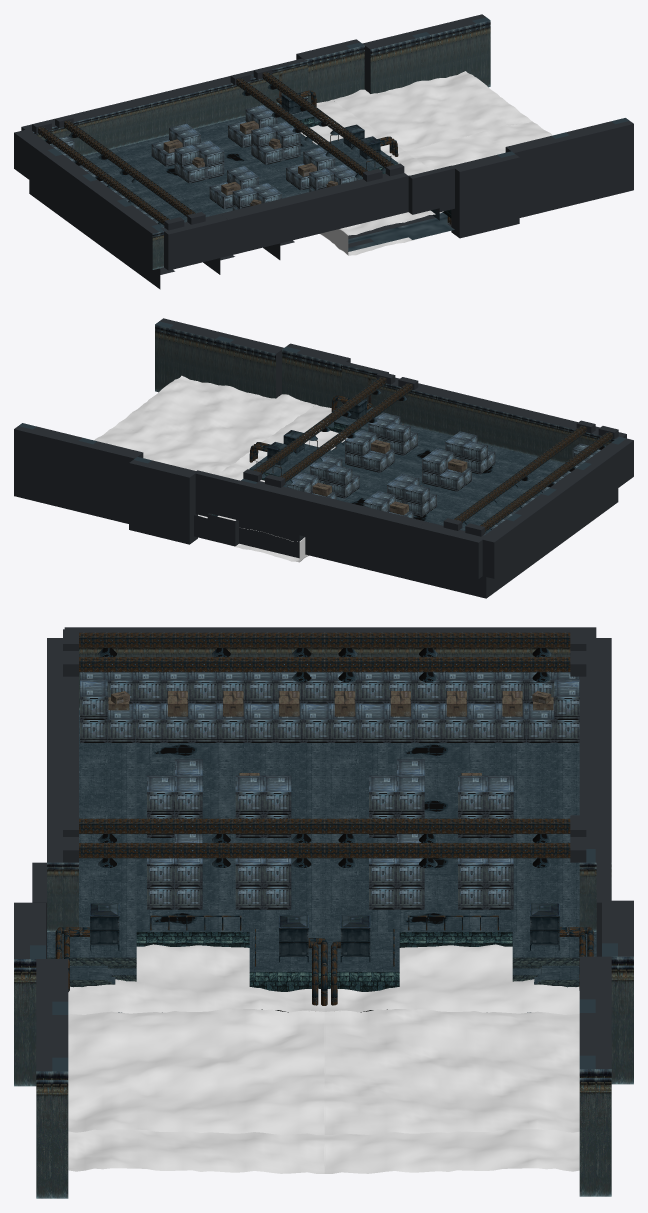
File: metal gear location.fbx
3 views of the same model, one above another, from view 1: azimuth 30°, elevation 25°; view 2: azimuth 150°, elevation 25°; view 3: azimuth 270°, elevation 25° (orthographic). The views are drawn at different scales.
Visible parts, largest first — view 1: Wall, Ground.005, Cube.017, Cube.013, Cube.007, Cube.014, Cube.005, Cube.003, Cube.010, Cube.006, Cube.002, Cube.004 (+16 smaller); view 2: Wall, Ground.005, Cube.013, Cube.007, Cube.017, Cube.002, Cube.009, Cube.001, Cube.014, Cube.005, Cube.003, Cube.008 (+16 smaller); view 3: Wall, Cube.013, Cube.017, Cube.019, Ground.005, Cube.007, Cube.014, Cube.010, Ground, Ground.003, Plan.005, Plan.006 (+22 smaller).
Part boxes in pixels (x1,y1,x2,y2): Wall: (14, 14, 633, 270); Ground.005: (29, 125, 302, 289); Cube.017: (332, 71, 531, 150); Cube.013: (405, 121, 552, 170); Cube.007: (270, 103, 454, 251); Cube.014: (320, 151, 443, 255); Cube.005: (174, 140, 224, 183); Cube.003: (251, 122, 300, 164); Cube.010: (300, 100, 403, 156); Cube.006: (151, 123, 200, 166); Cube.002: (209, 166, 258, 208); Cube.004: (228, 105, 277, 147); Wall: (14, 318, 633, 578); Ground.005: (305, 432, 618, 598); Cube.013: (114, 375, 316, 456); Cube.007: (194, 405, 376, 558); Cube.017: (94, 427, 242, 474); Cube.002: (422, 448, 471, 491); Cube.009: (345, 429, 394, 472); Cube.001: (445, 431, 495, 474); Cube.014: (243, 405, 347, 461); Cube.005: (387, 474, 436, 517); Cube.003: (310, 455, 359, 498); Cube.008: (368, 412, 417, 455); Wall: (14, 627, 633, 1198); Cube.013: (68, 1009, 325, 1173); Cube.017: (324, 1009, 579, 1173); Cube.019: (80, 664, 579, 742); Ground.005: (79, 710, 579, 875); Cube.007: (47, 932, 596, 1012); Cube.014: (68, 944, 330, 1014); Cube.010: (318, 944, 579, 1014); Ground: (79, 875, 330, 947); Ground.003: (330, 875, 579, 947); Plan.005: (324, 818, 570, 833); Plan.006: (324, 843, 570, 858).
Size of the model in its own units: 3398 by 507 by 2006.
Materials: 20 (16 with a texture image).
